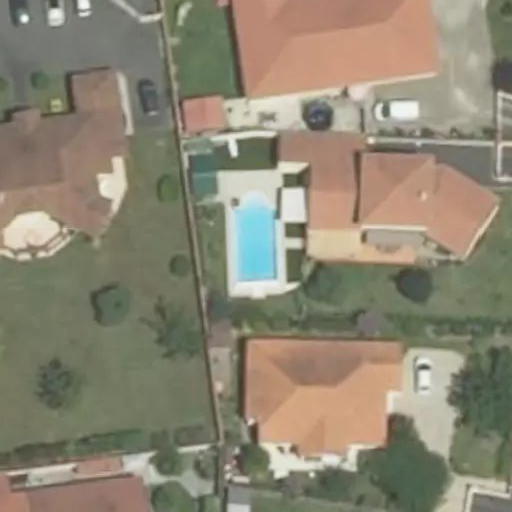pool: (233, 196, 278, 287)
